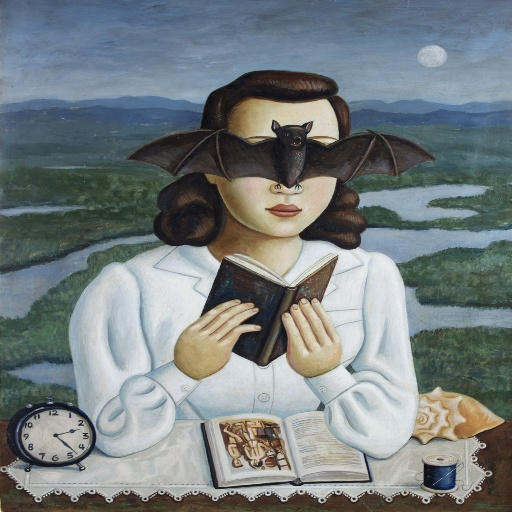hand: (168, 294, 264, 379), (279, 296, 340, 376), (277, 447, 286, 454), (264, 444, 270, 450)
